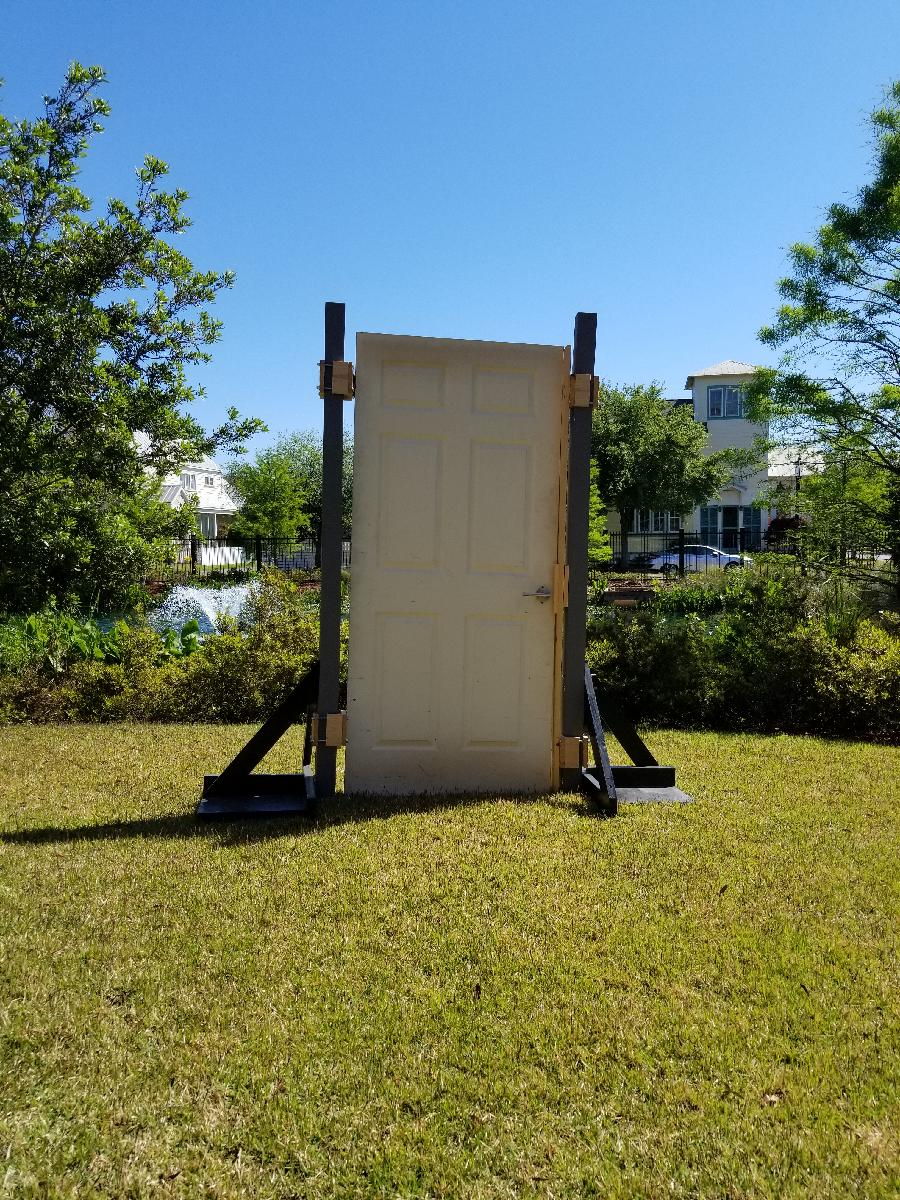door: (342, 326, 572, 800)
doorHandle: (519, 584, 554, 610)
